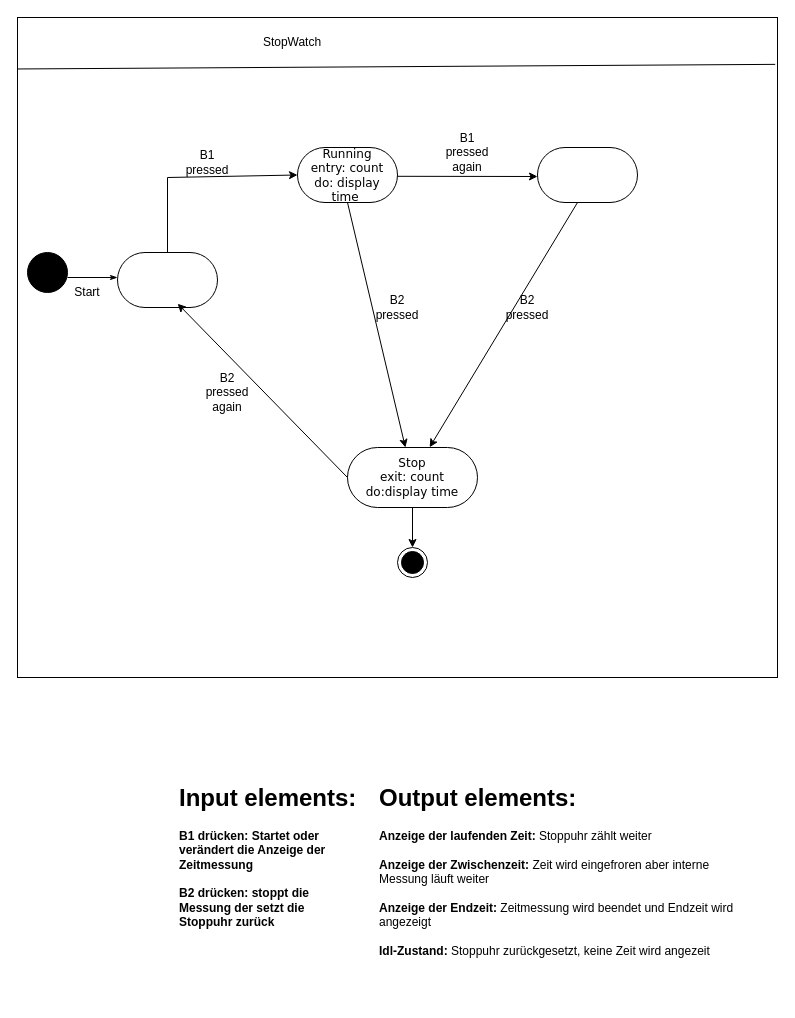
The diagram is 795 pixels wide and 1018 high, and some of its shapes have lost their labels. Here are the shapes that lost their labels. From the top down, the centre of each, then its label:
At (x=587, y=174): "Zwischenzeit do:display time".
At (x=167, y=280): "Waiting do: display nothing".
